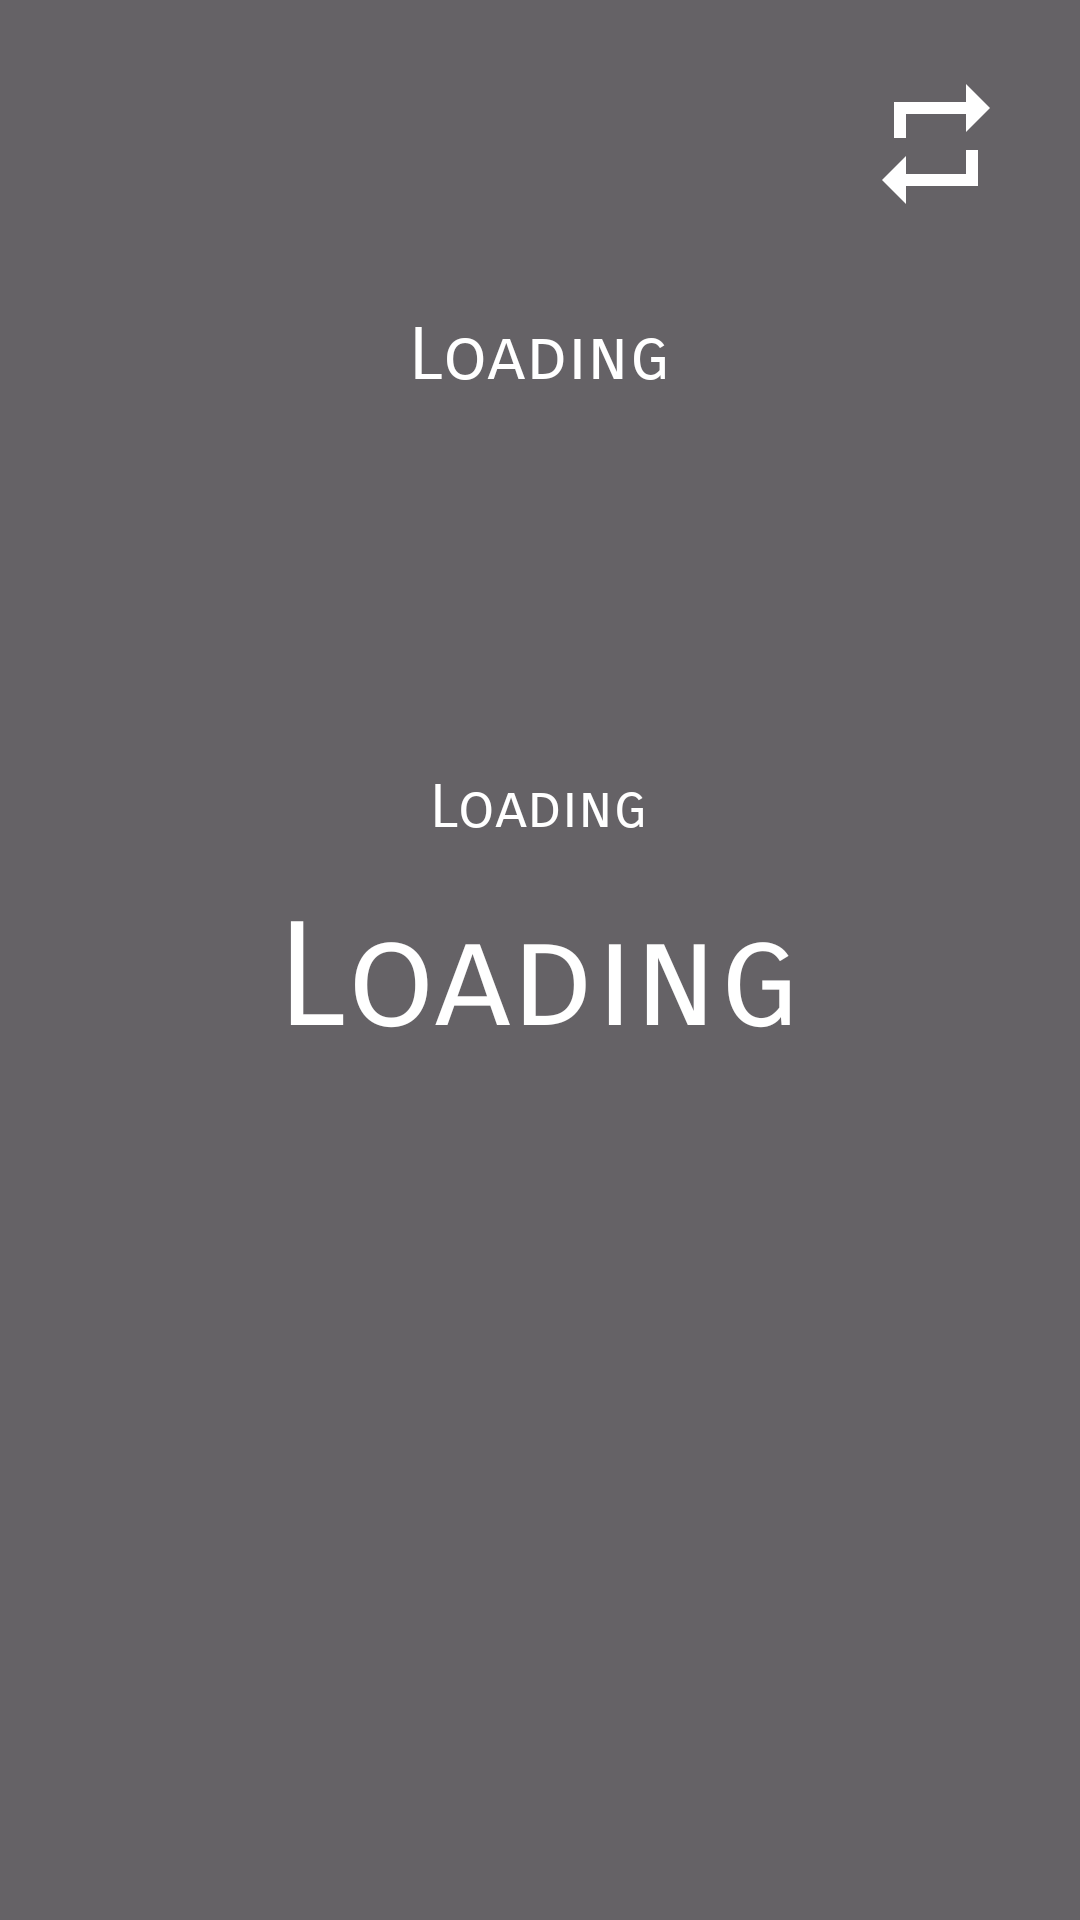

Named icons in this screenshot (1080 x 1920) and their bounding boxes, (x1, y1, x2, y2):
reload: (882, 84, 990, 204)
